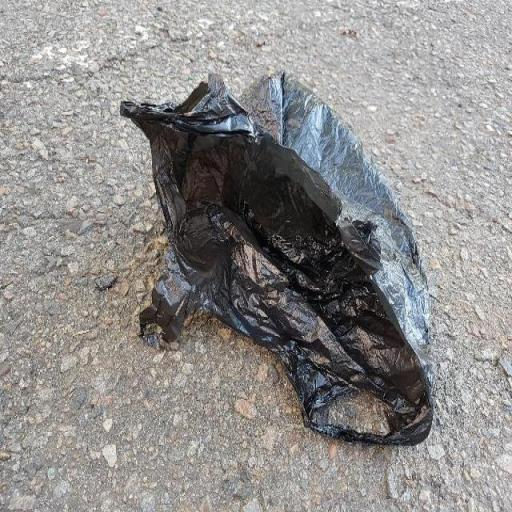plastic-bag: (117, 68, 438, 450)
